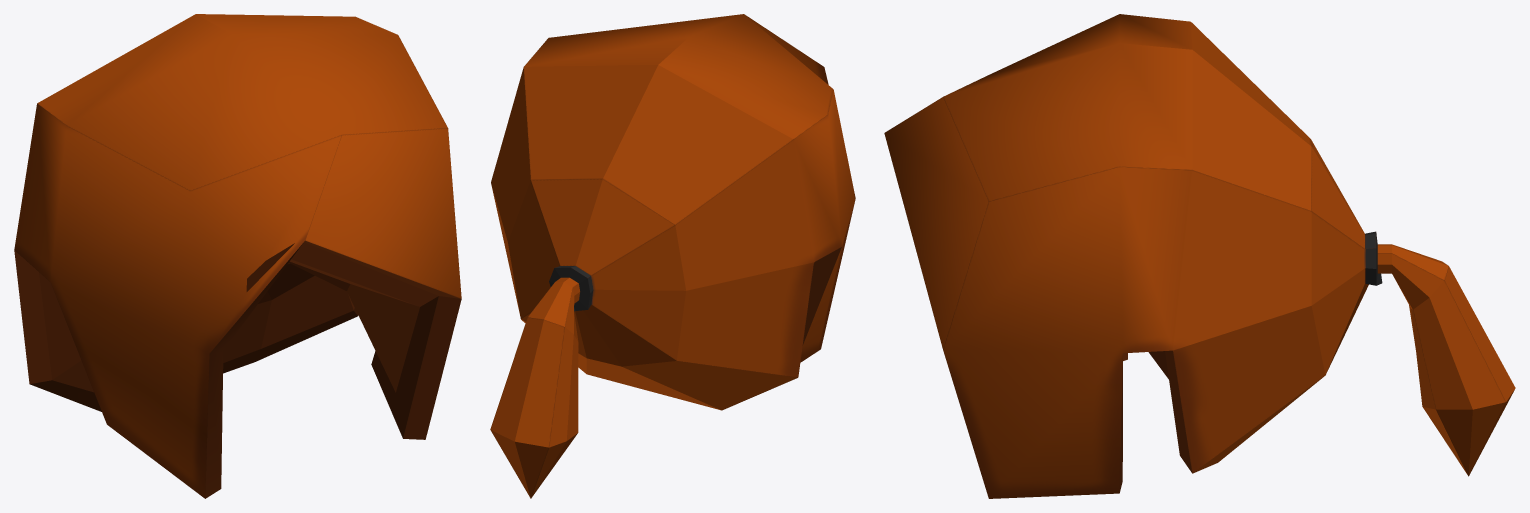
Rendered from Ninja Completed UV.fbx.
3 views of the same model, side by side, from view 1: azimuth 30°, elevation 25°; view 2: azimuth 150°, elevation 25°; view 3: azimuth 270°, elevation 25° (orthographic). The views are drawn at different scales.
Parts seen in each view (by area): view 1: pCube3; view 2: pCube3; view 3: pCube3.
Part boxes in pixels (bbox=[...]): pCube3: bbox=[14, 14, 461, 498]; pCube3: bbox=[490, 14, 855, 498]; pCube3: bbox=[884, 14, 1515, 498].
Bounding box in the file's own units: 3.83 × 3.91 × 5.24.
Materials: 1 (1 with a texture image).
